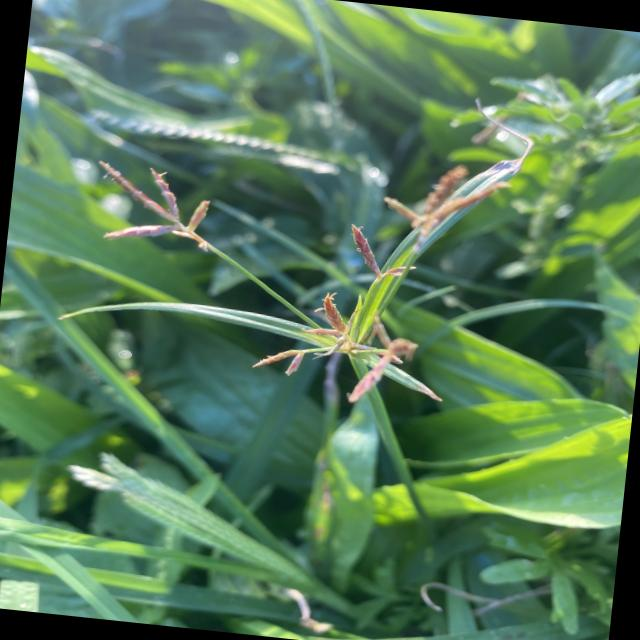cyperus: (56, 98, 538, 424)
